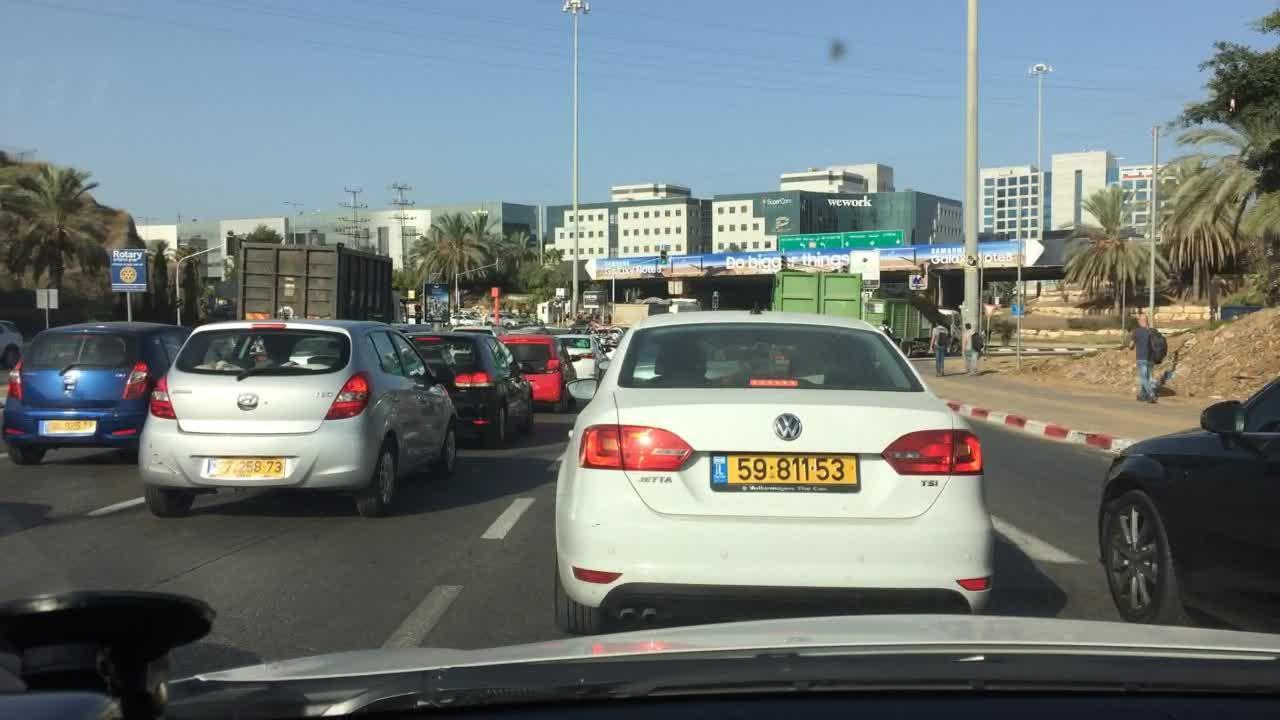Hyundai: (232, 390, 264, 418)
Volkswagen: (770, 407, 818, 450)
